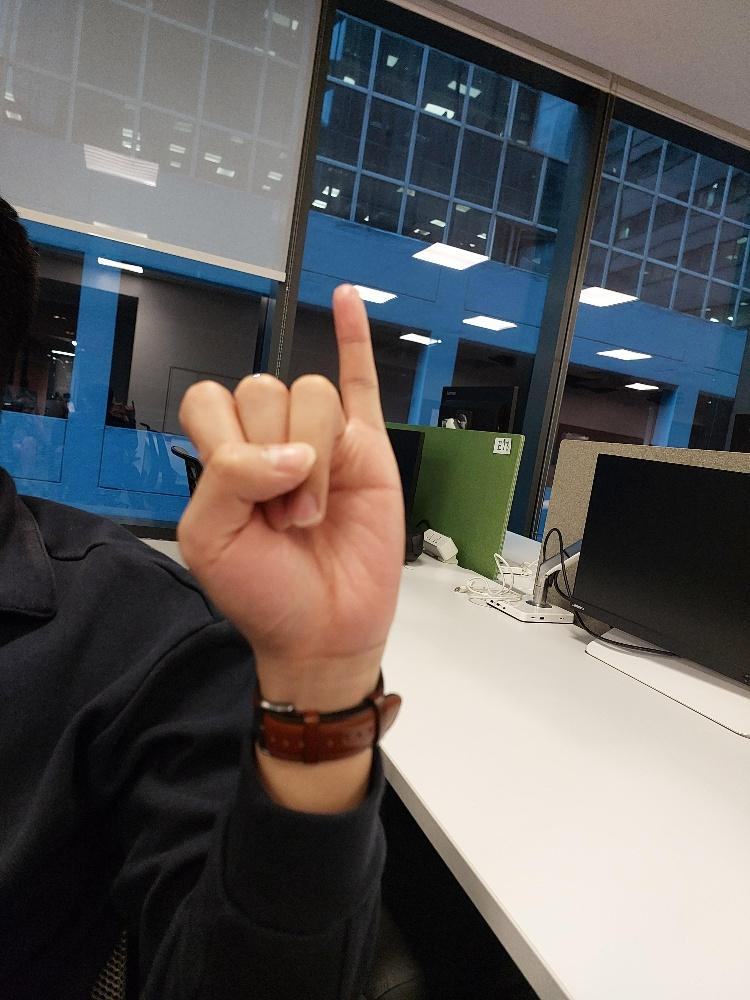i: (175, 283, 403, 647)
